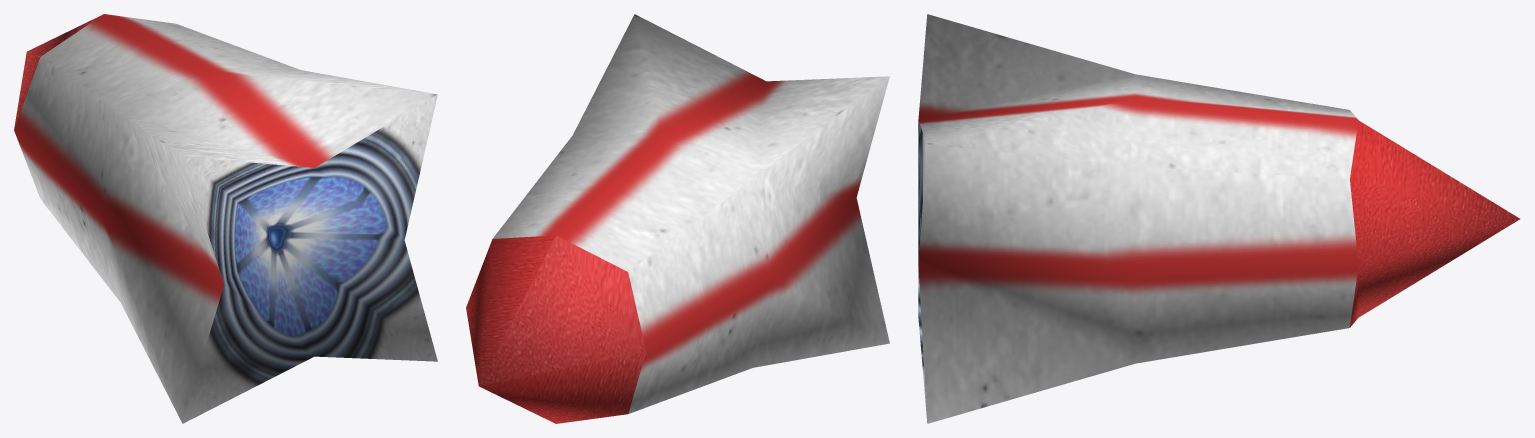
Rendered from rocket.obj.
3 renders of one model, left to right at view 1: azimuth 30°, elevation 25°; view 2: azimuth 150°, elevation 25°; view 3: azimuth 270°, elevation 25°, orthographic. The views are drawn at different scales.
Visible parts, largest first — view 1: Cube; view 2: Cube; view 3: Cube.
Boxes of the visible parts, x1,y1,x2,y2 form: Cube: (14,14,437,423); Cube: (466,14,889,423); Cube: (918,14,1519,423).
Size of the model in its own units: 2.18 by 2.18 by 4.26.
